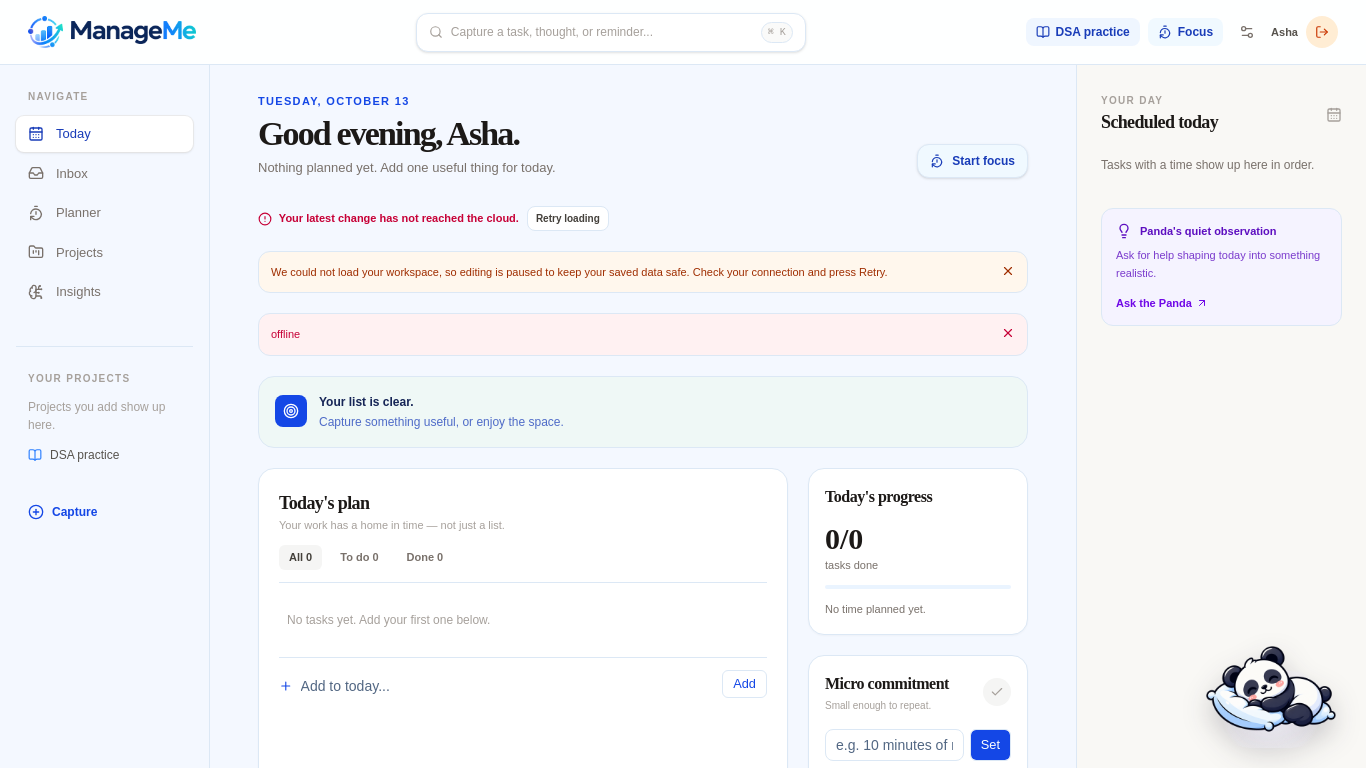
Test case: workspace › never overwrites the saved workspace when it failed to load
expect the text "editing is paused" is shown: met, box [271,266,888,278]
// Trying to add a task is refused…
Type "New task" into the field with placeholder "Add to today..." at (507, 686), box [301,670,714,702]
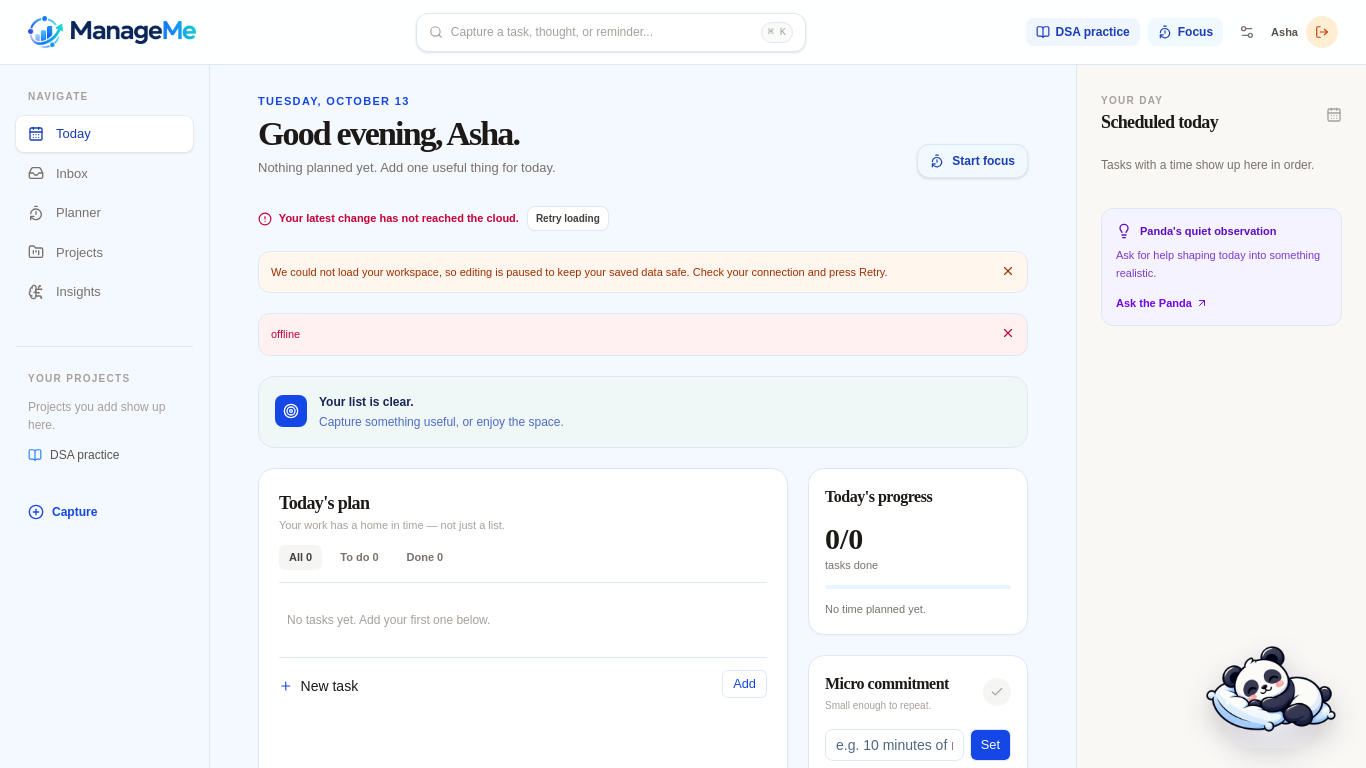
Submit the form with placeholder "Add to today...", box [279,657,767,702]
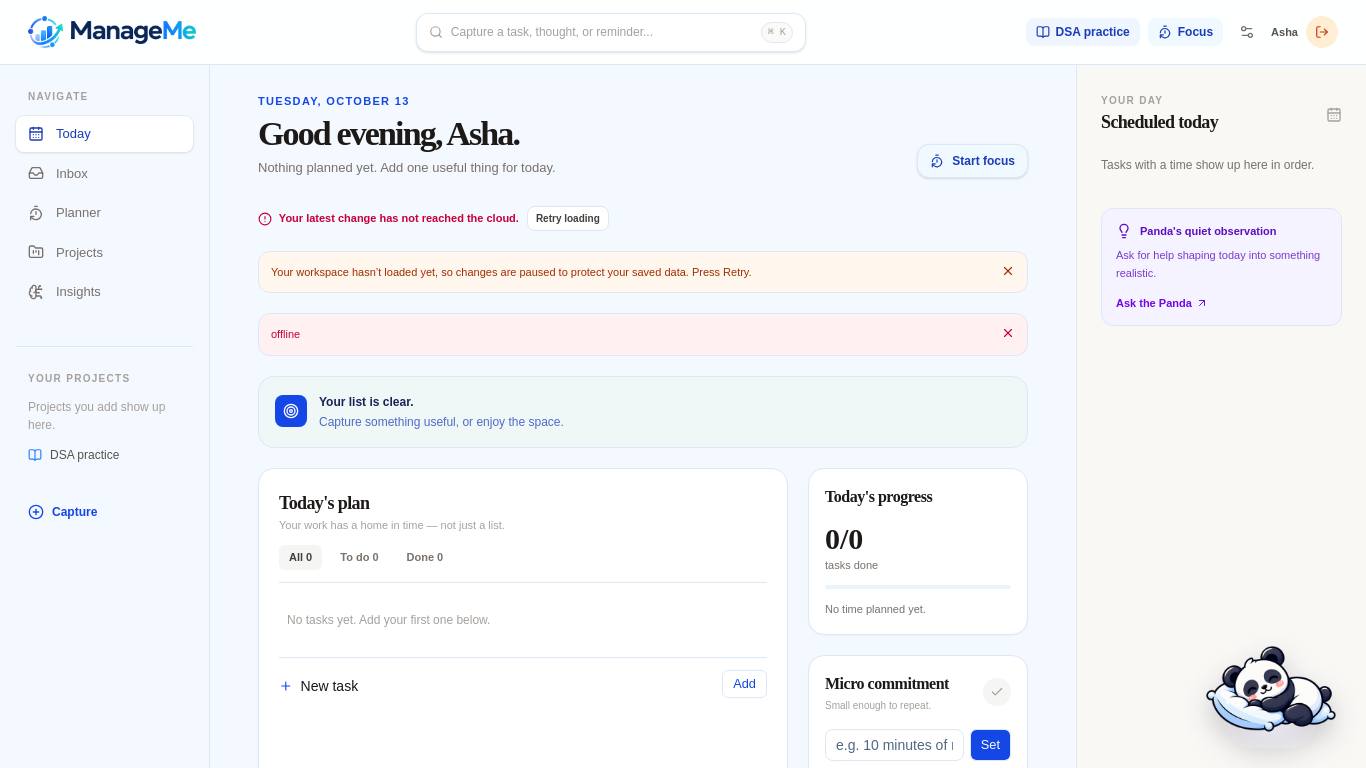
Click the button "Retry loading" at (568, 218), box [527,206,609,231]
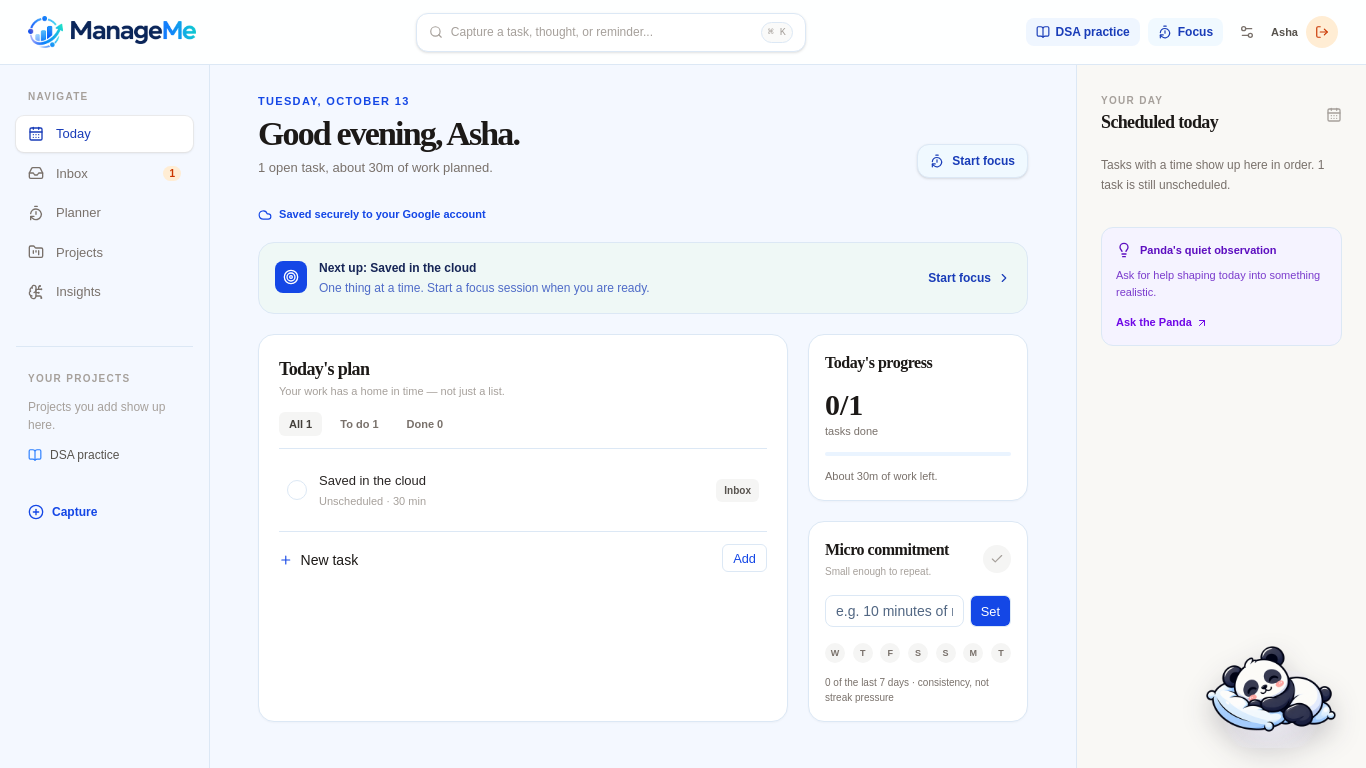
expect the text "Saved in the cloud" is shown: met, box [319,473,426,488]
